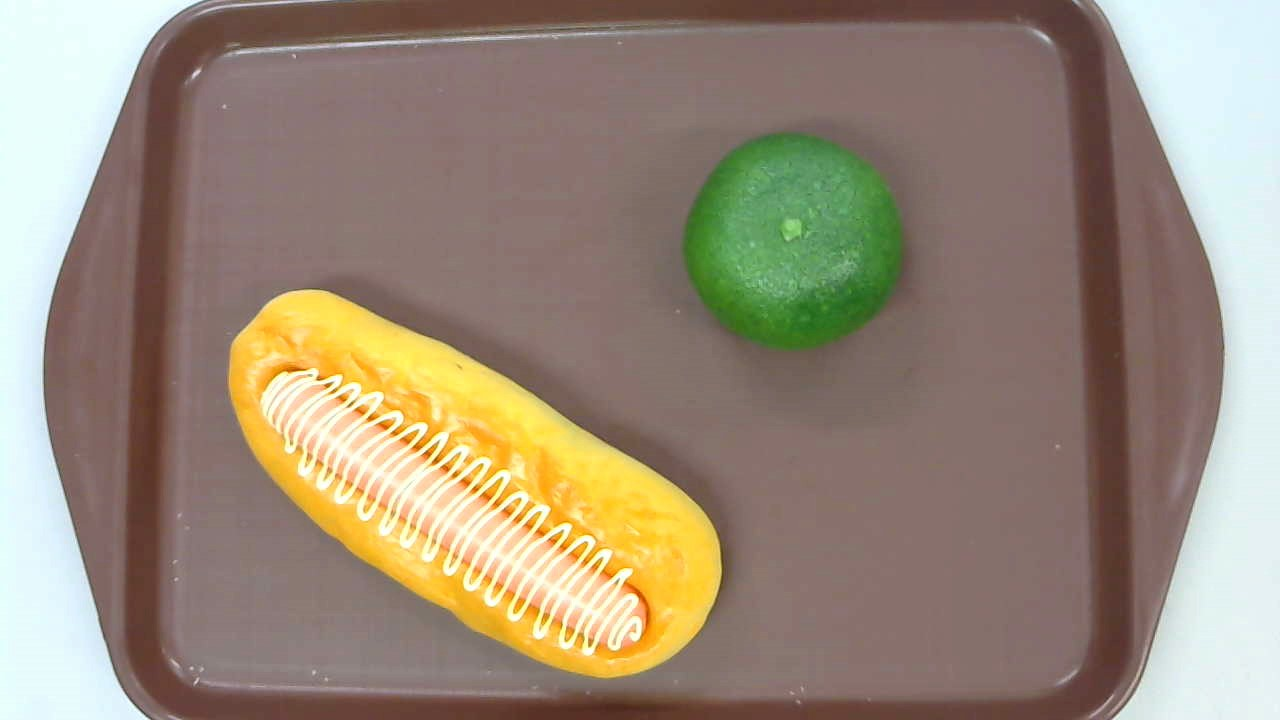green orange: (683, 132, 903, 353)
hot dog: (227, 289, 722, 678)
